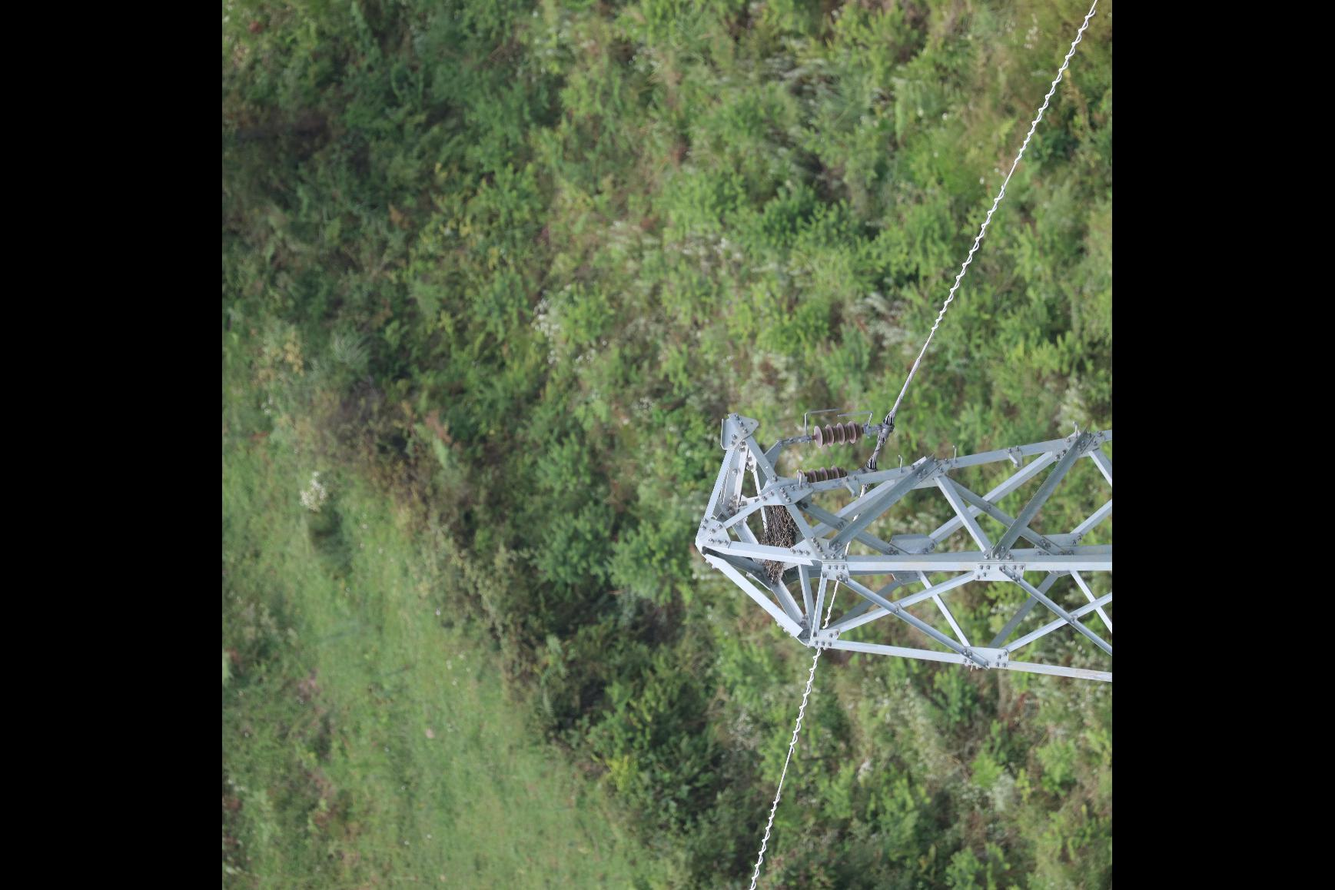nest: (761, 503, 799, 548)
